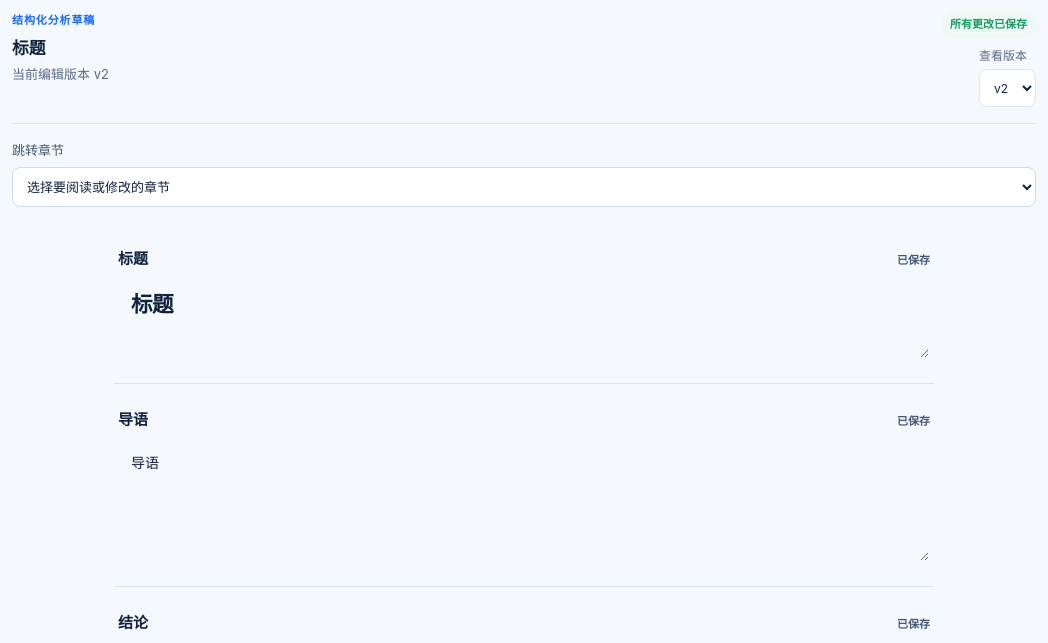
Scenario: retains text and offers retry after a failed autosave
The width and height of the screenshot is (1048, 643).
Replace the text in the text box labelled "导语" with "离线文本" at (524, 501), box [118,440,930,562]
Wait 800 ms
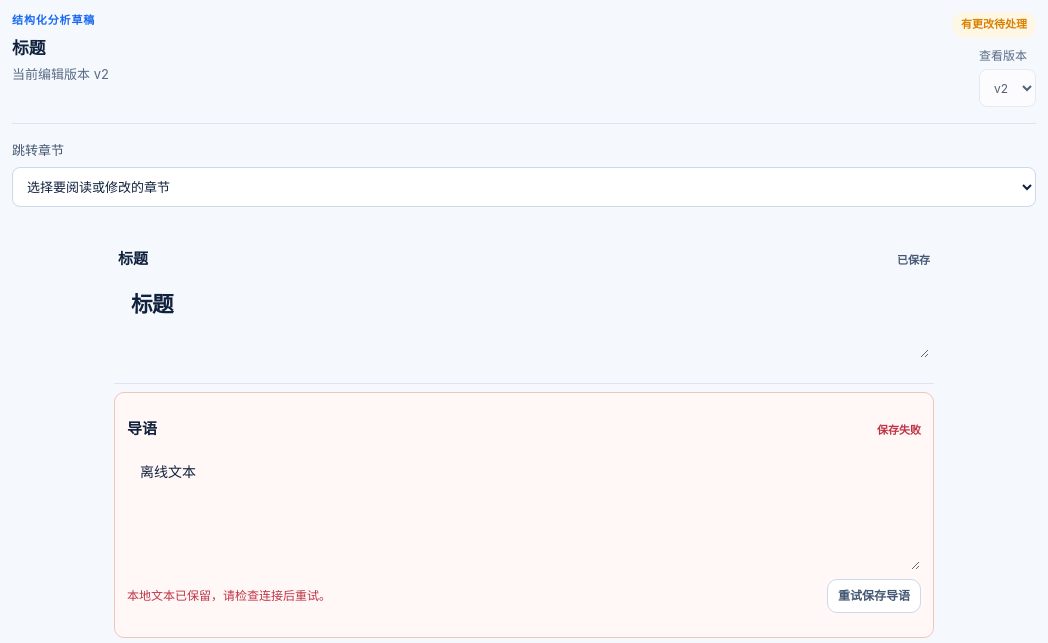
Expected: the button "重试保存导语" is enabled, [827,579,921,613]
